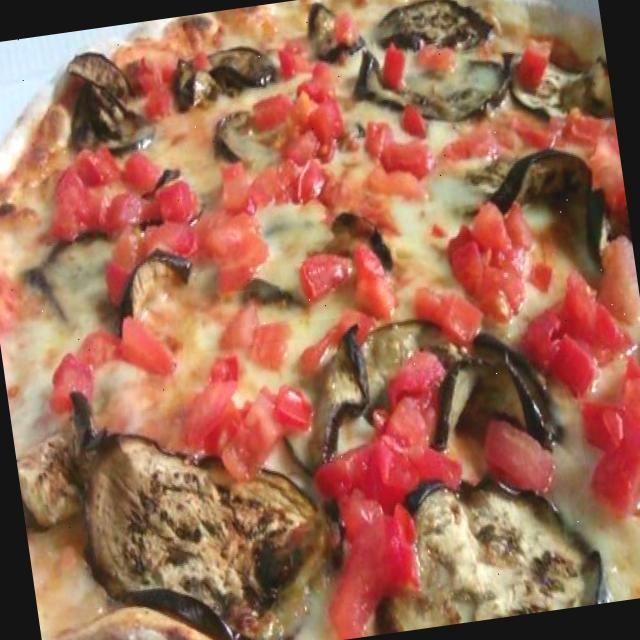cheese: (79, 270, 239, 458), (0, 294, 114, 440), (367, 162, 476, 308), (133, 96, 240, 208), (559, 468, 640, 607), (27, 521, 112, 638), (265, 284, 354, 392), (251, 199, 331, 286)
mushrooms: (73, 400, 342, 640), (357, 456, 604, 635), (344, 289, 570, 476), (260, 314, 380, 480), (343, 34, 517, 134), (440, 137, 600, 239), (95, 228, 209, 346), (61, 47, 165, 169), (503, 30, 615, 133), (160, 31, 292, 116), (11, 226, 117, 328), (294, 192, 396, 296), (364, 0, 501, 66), (130, 159, 212, 240), (282, 0, 375, 69), (207, 99, 283, 180), (223, 262, 310, 330)
pizza: (0, 0, 640, 640)
tomato: (35, 127, 202, 310), (308, 431, 433, 640), (176, 340, 312, 486), (32, 302, 190, 423), (358, 338, 462, 510), (522, 266, 638, 402), (241, 82, 353, 220), (174, 156, 280, 298), (442, 195, 553, 324), (573, 362, 640, 520), (430, 104, 556, 176), (560, 103, 628, 224), (356, 95, 438, 189), (406, 277, 496, 356), (122, 50, 181, 128), (270, 29, 334, 94), (509, 36, 560, 94), (376, 38, 413, 95), (412, 39, 460, 75), (327, 10, 359, 48)
